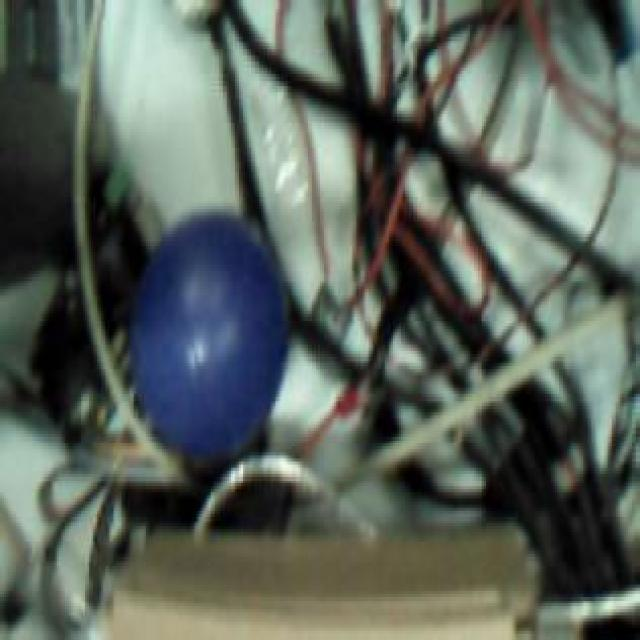BallPurple: (130, 212, 288, 457)
